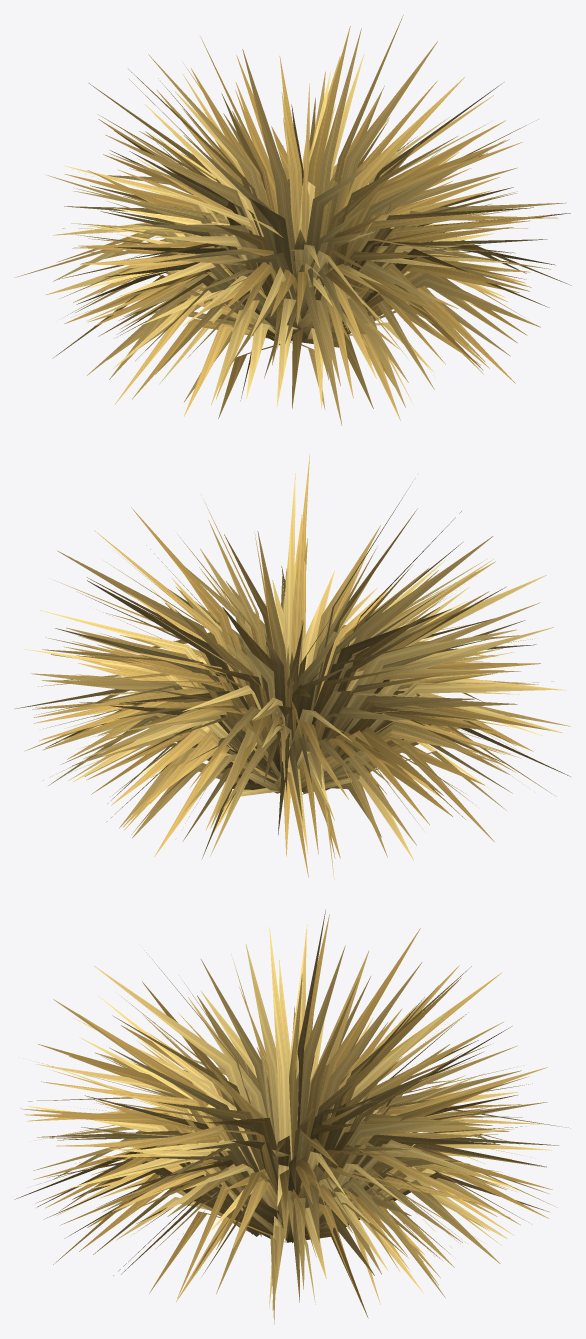
Rendered from alpine_tussock_v02_LOD1.fbx.
3 views of the same model, one above another, from view 1: azimuth 30°, elevation 25°; view 2: azimuth 150°, elevation 25°; view 3: azimuth 270°, elevation 25° (orthographic).
Parts seen in each view (by area): view 1: alpine_tussock_v02_LOD1; view 2: alpine_tussock_v02_LOD1; view 3: alpine_tussock_v02_LOD1.
Part boxes in pixels (x1=…): alpine_tussock_v02_LOD1: x1=14, y1=15, x2=571, y2=425; alpine_tussock_v02_LOD1: x1=15, y1=454, x2=570, y2=879; alpine_tussock_v02_LOD1: x1=14, y1=909, x2=570, y2=1324.
Bounding box in the file's own units: 64.01 × 63.98 × 31.39.
1 material, 1 textured.
